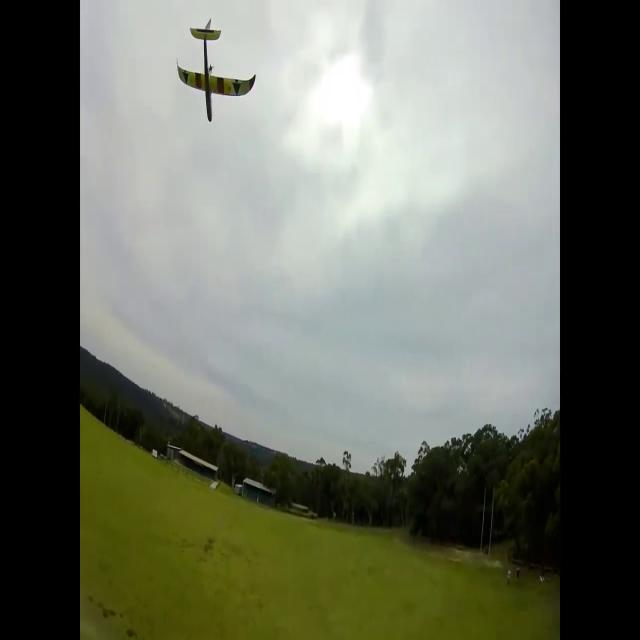iha: (208, 0, 225, 18)
